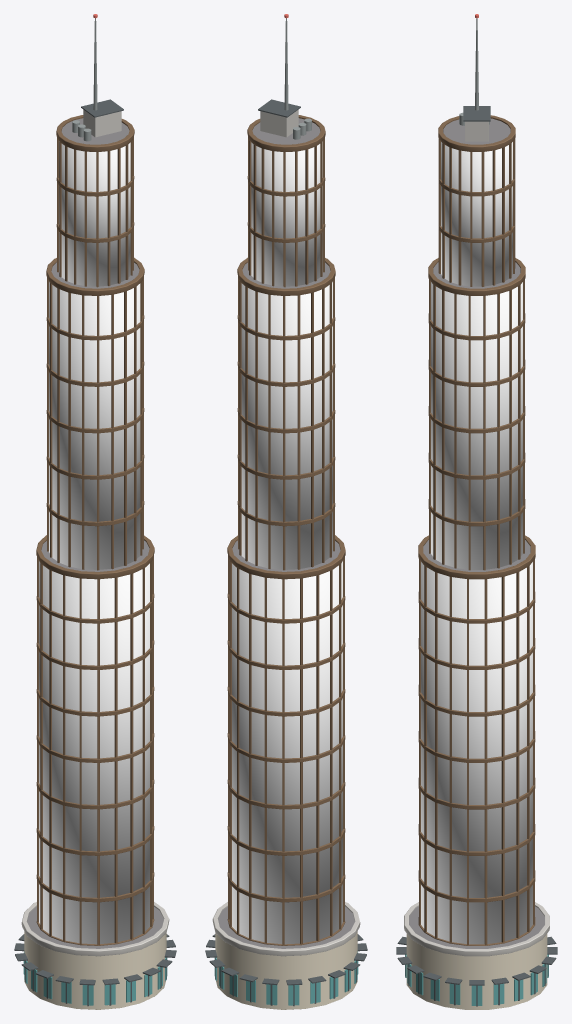
The model's file is tower_round_spire.glb.
The picture shows the model from 3 angles, left to right: view 1: azimuth 30°, elevation 25°; view 2: azimuth 150°, elevation 25°; view 3: azimuth 270°, elevation 25°; orthographic projection.
Parts seen in each view (by area): view 1: curtain, mullions, tower trim, tower props; view 2: curtain, mullions, tower trim, tower props; view 3: curtain, mullions, tower trim, tower props.
Boxes of the visible parts, box(x1,y1,x2,y2) form: curtain: box(39, 141, 149, 944); mullions: box(25, 137, 166, 1006); tower trim: box(21, 115, 169, 1009); tower props: box(14, 14, 176, 1005); curtain: box(232, 141, 342, 944); mullions: box(215, 137, 356, 1006); tower trim: box(212, 115, 360, 1009); tower props: box(205, 14, 367, 1005); curtain: box(421, 142, 532, 944); mullions: box(405, 139, 548, 1006); tower trim: box(404, 115, 549, 1009); tower props: box(396, 14, 557, 1005).
Bounding box in the file's own units: 22.7 × 150 × 22.7.
